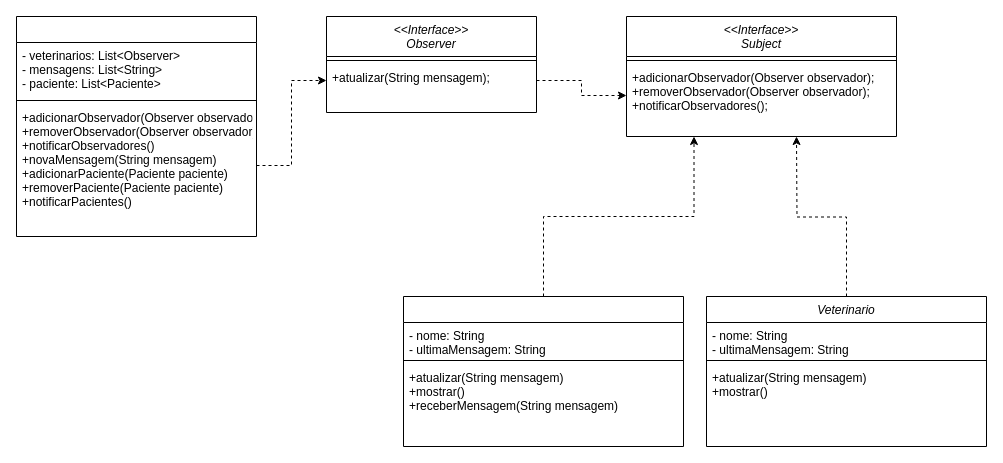
Some shapes in this 1003 by 463 pixel diagram are drawn without their labels. Each missing label, with the box of its shape:
Paciente: (402, 296, 684, 446)
SistemaVeterinario: (16, 16, 256, 236)
